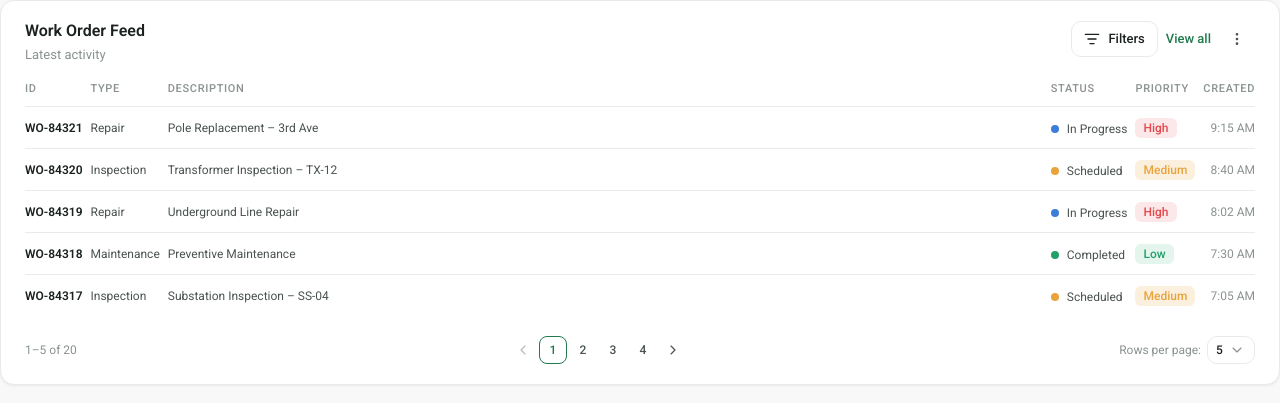
it: WorkOrderFeed › pages through the rows
Click the button named "Page 2": (583, 350) [569,336,597,364]
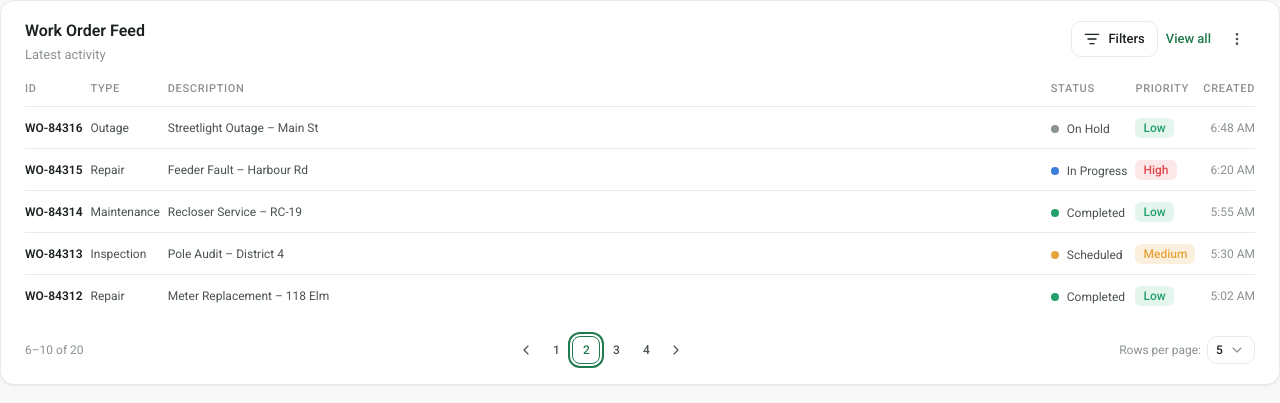
expect the text "6–10 of 20" is shown: met, box [25,342,84,358]
